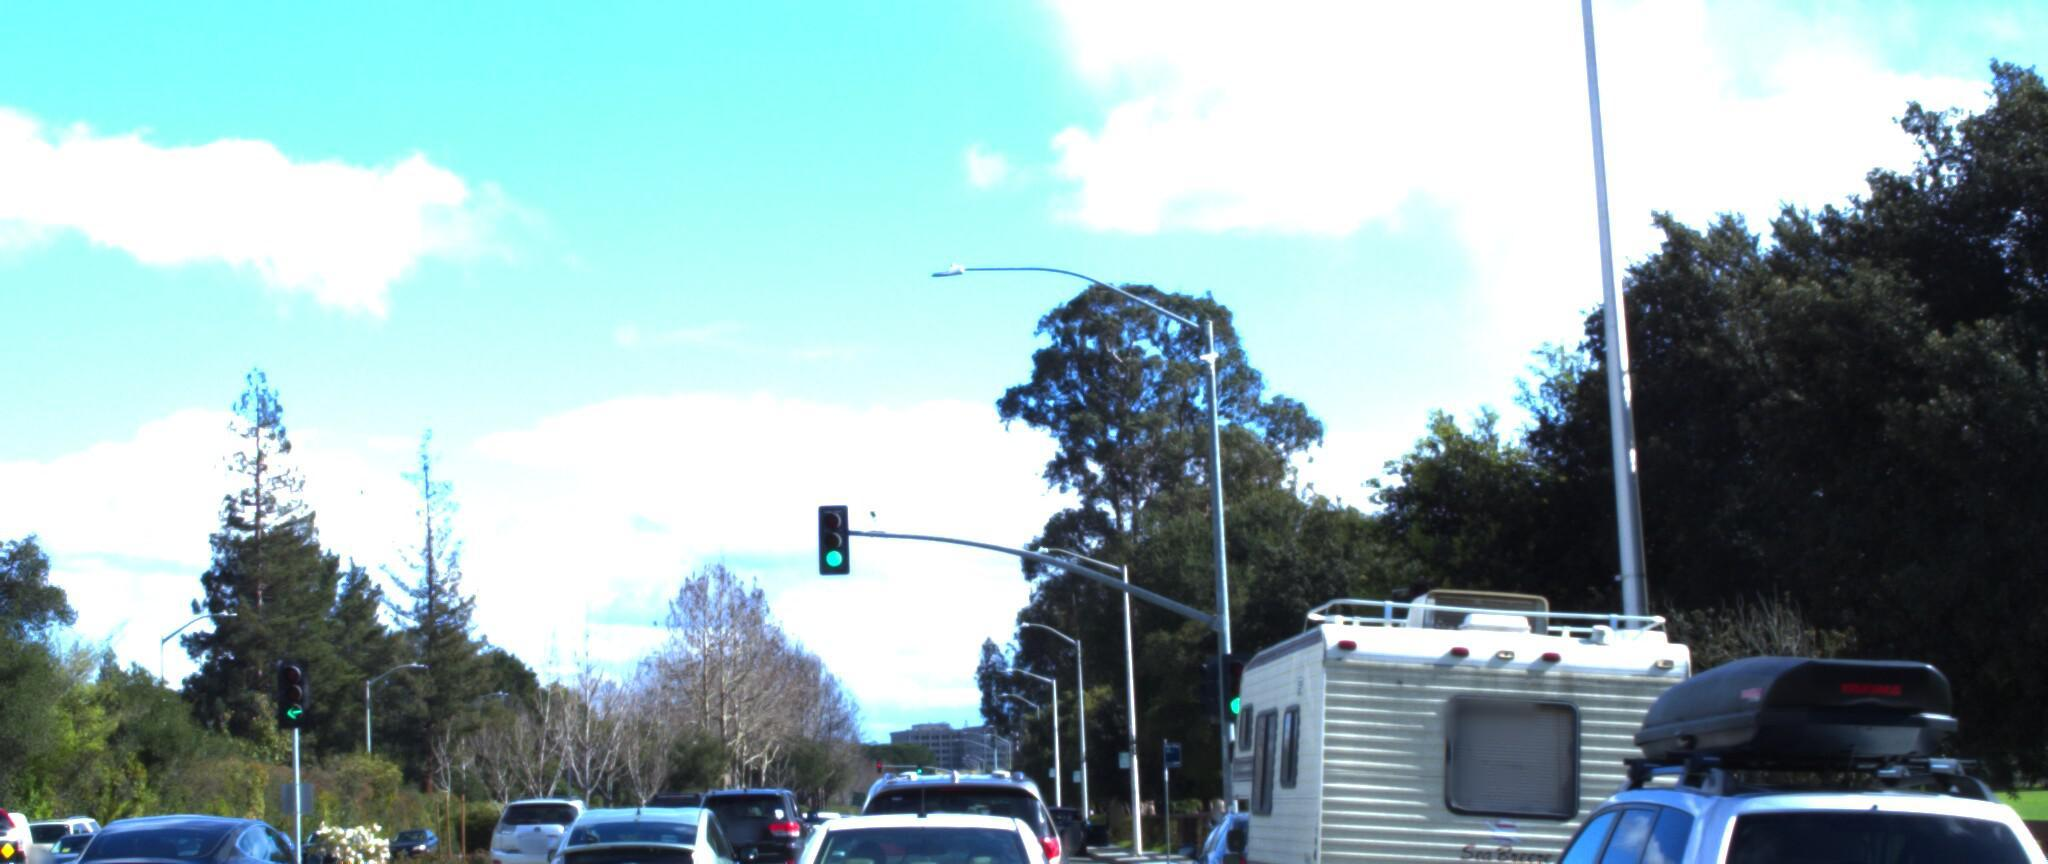car: (1428, 581, 2048, 864), (713, 719, 1076, 864), (869, 705, 1092, 864), (29, 770, 364, 864), (1765, 783, 2048, 864), (536, 773, 764, 864), (1181, 767, 1395, 864), (687, 764, 825, 864), (485, 773, 620, 864), (0, 764, 63, 864)
other_vehicle: (1195, 518, 1761, 864)
